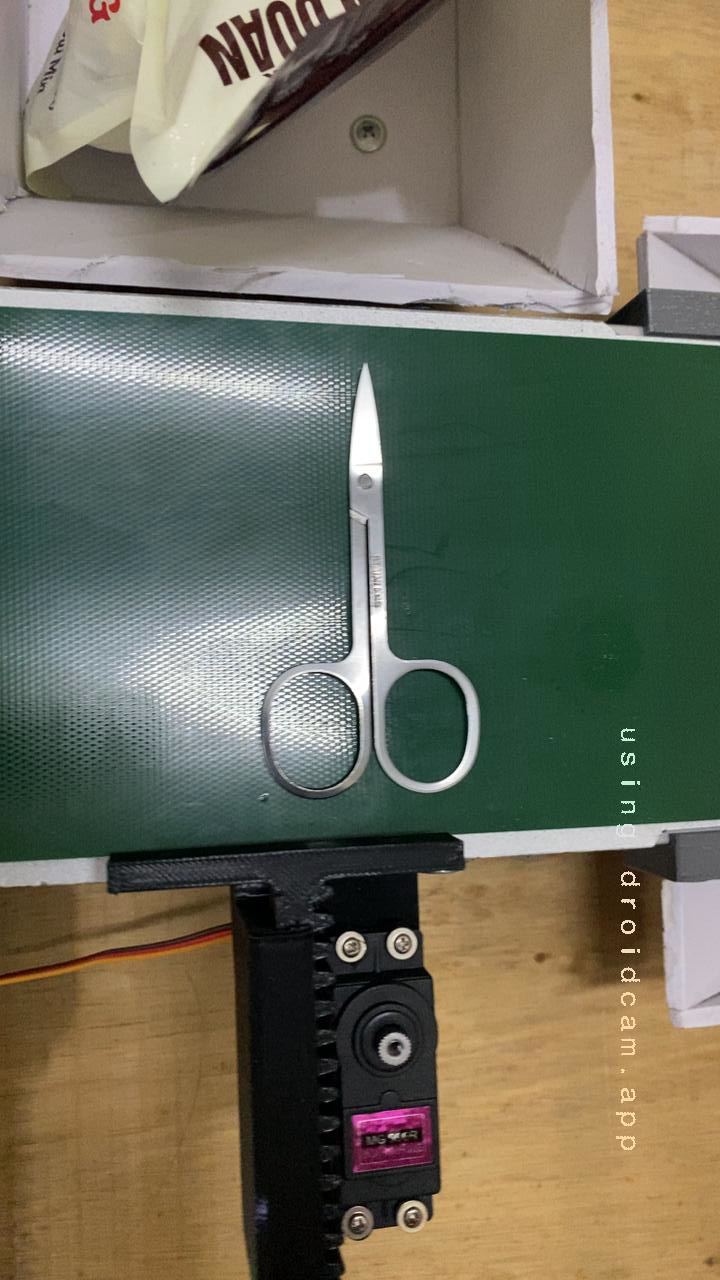scissor: (232, 353, 508, 812)
